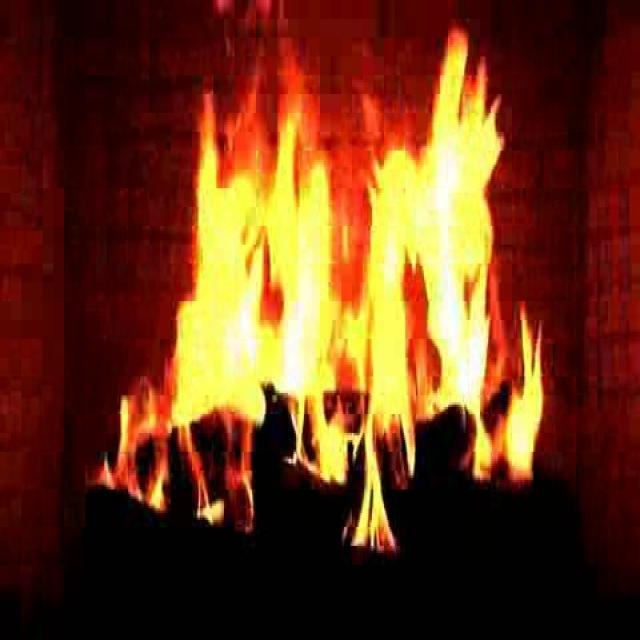fire: (155, 39, 569, 532)
